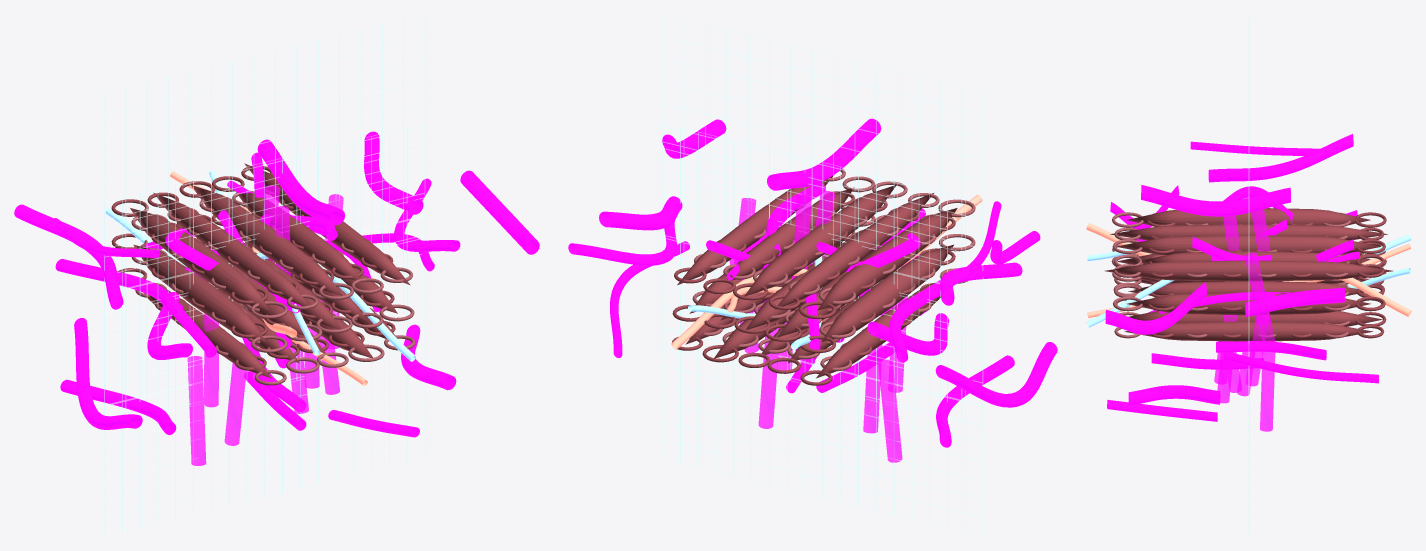
File: heart-tissue-progressing-2.glb
3 renders of one model, left to right at view 1: azimuth 30°, elevation 25°; view 2: azimuth 150°, elevation 25°; view 3: azimuth 270°, elevation 25°, orthographic. The views are drawn at different scales.
Parts seen in each view (by area): view 1: ECM_Bot, ECM_Top, Fibre_12, Fibre_11, Fibre_5, Fibre_10, Fibre_13, Amy_8, Fibre_14, Amy_11, Amy_22, Fibre_0 (+25 smaller); view 2: ECM_Bot, ECM_Top, Fibre_12, Fibre_5, Fibre_11, Fibre_10, Fibre_13, Amy_11, Amy_8, Fibre_14, Fibre_0, AmyExtra_2 (+21 smaller); view 3: Fibre_14, Fibre_4, Fibre_12, Fibre_10, Fibre_11, Amy_11, Fibre_8, Fibre_9, Amy_22, Fibre_3, Amy_3, Amy_24 (+24 smaller).
Boxes of the visible parts, left/top/right/bottom form: ECM_Bot: left=104, top=123, right=424, bottom=536; ECM_Top: left=104, top=14, right=424, bottom=418; Fibre_12: left=191, top=185, right=342, bottom=295; Fibre_11: left=153, top=192, right=312, bottom=309; Fibre_5: left=133, top=244, right=265, bottom=341; Fibre_10: left=130, top=208, right=269, bottom=310; Fibre_13: left=236, top=192, right=362, bottom=282; Amy_8: left=74, top=318, right=142, bottom=429; Fibre_14: left=244, top=163, right=410, bottom=285; Amy_11: left=257, top=139, right=344, bottom=225; Amy_22: left=14, top=204, right=123, bottom=309; Fibre_0: left=144, top=284, right=271, bottom=378; ECM_Bot: left=662, top=123, right=982, bottom=536; ECM_Top: left=662, top=14, right=982, bottom=427; Fibre_12: left=744, top=184, right=896, bottom=296; Fibre_5: left=821, top=244, right=953, bottom=341; Fibre_11: left=774, top=193, right=933, bottom=309; Fibre_10: left=817, top=208, right=957, bottom=310; Fibre_13: left=724, top=187, right=854, bottom=282; Amy_11: left=767, top=118, right=881, bottom=190; Amy_8: left=935, top=342, right=1057, bottom=407; Fibre_14: left=677, top=175, right=833, bottom=285; Fibre_0: left=816, top=282, right=939, bottom=378; AmyExtra_2: left=878, top=359, right=902, bottom=462; Fibre_14: left=1105, top=260, right=1392, bottom=281; Fibre_4: left=1124, top=321, right=1372, bottom=341; Fibre_12: left=1116, top=235, right=1381, bottom=254; Fibre_10: left=1127, top=208, right=1370, bottom=225; Fibre_11: left=1110, top=224, right=1387, bottom=240; Amy_11: left=1141, top=185, right=1290, bottom=216; Fibre_8: left=1128, top=281, right=1364, bottom=295; Fibre_9: left=1126, top=292, right=1370, bottom=315; Amy_22: left=1208, top=134, right=1353, bottom=182; Fibre_3: left=1128, top=311, right=1382, bottom=326; Amy_3: left=1245, top=287, right=1344, bottom=317; Amy_24: left=1105, top=282, right=1207, bottom=334.
Size of the model in its own units: 5.01 by 5.3 by 4.04.
